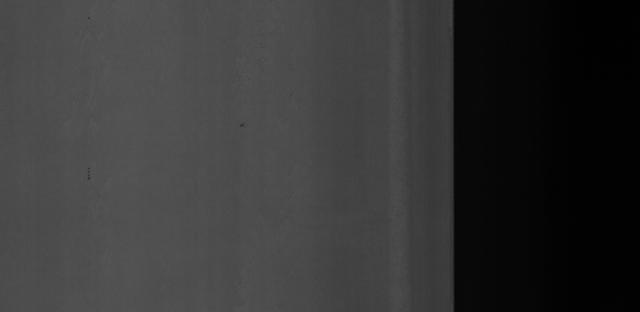inclusion: (79, 160, 99, 185), (235, 115, 248, 133)
